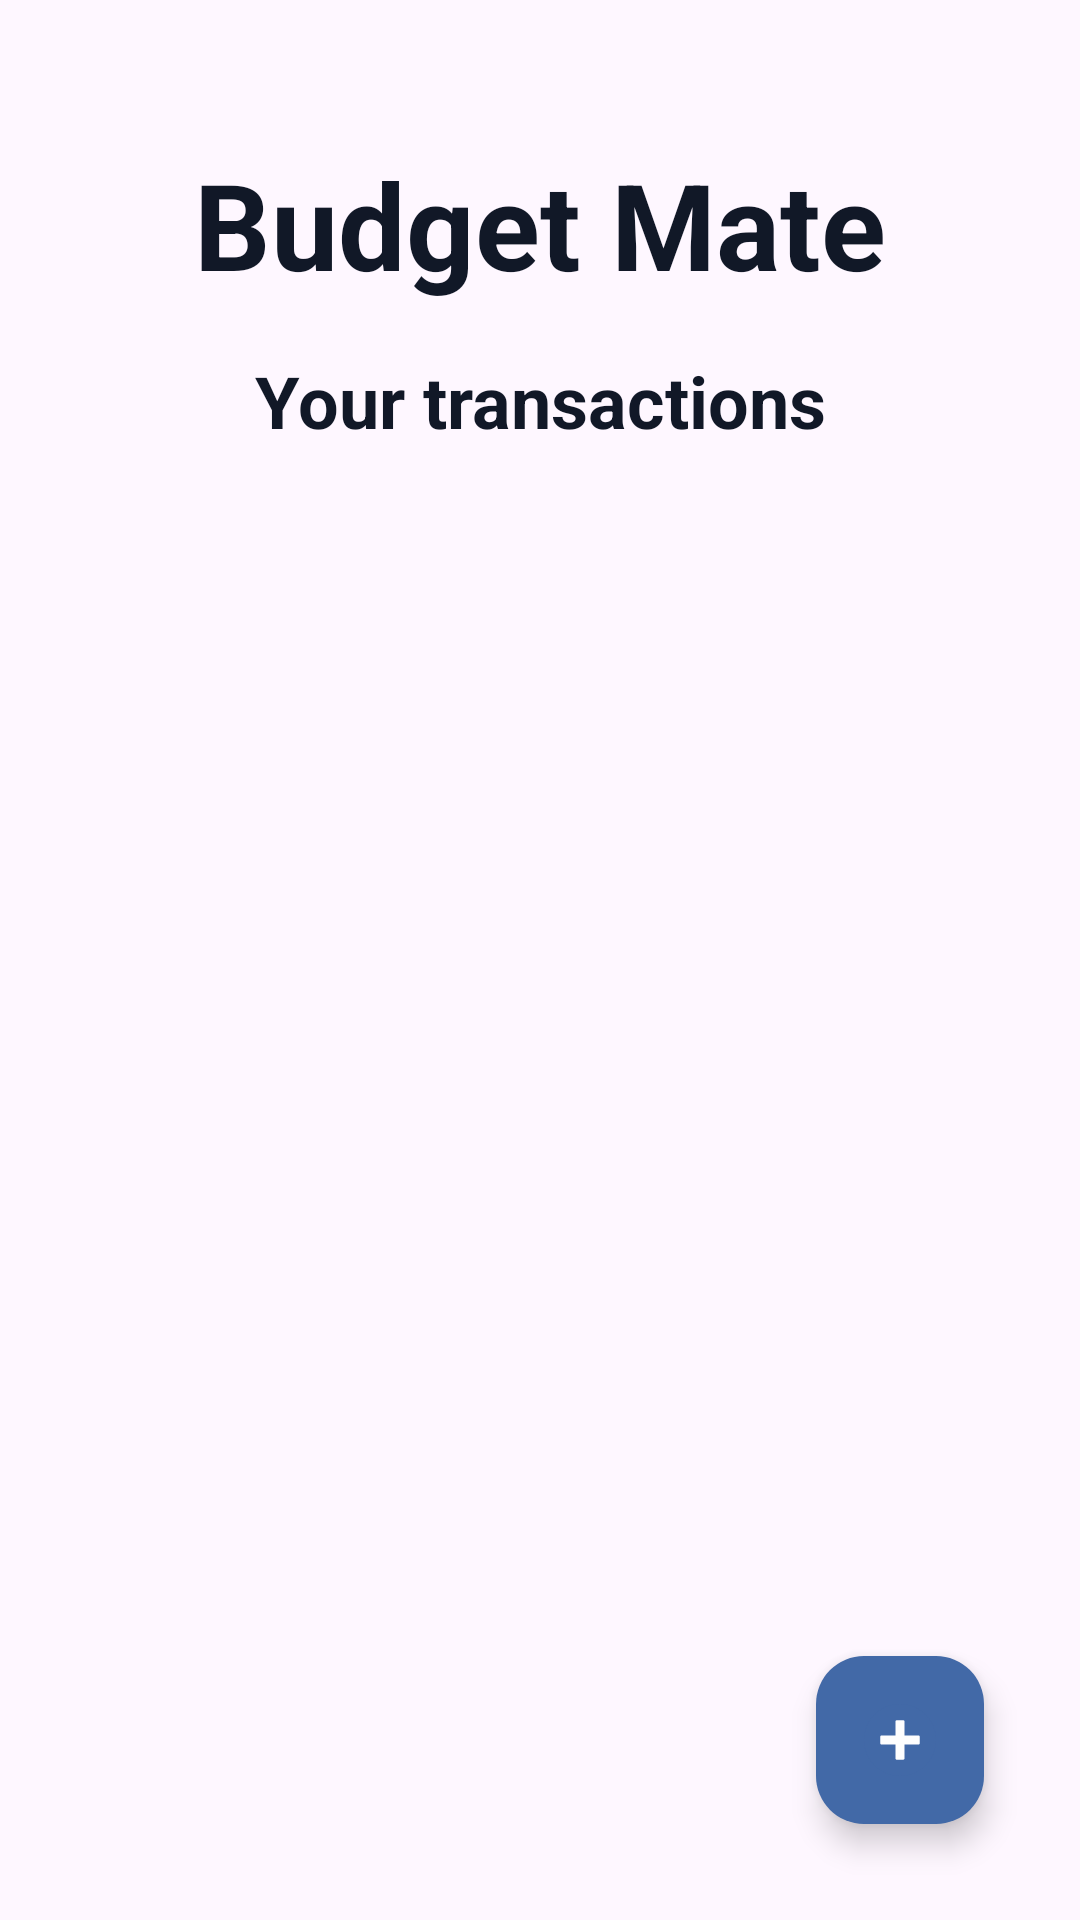

Named icons in this screenshot (1080 x 1920) and their centers, [x,y]:
Create a new transaction: [900,1740]
